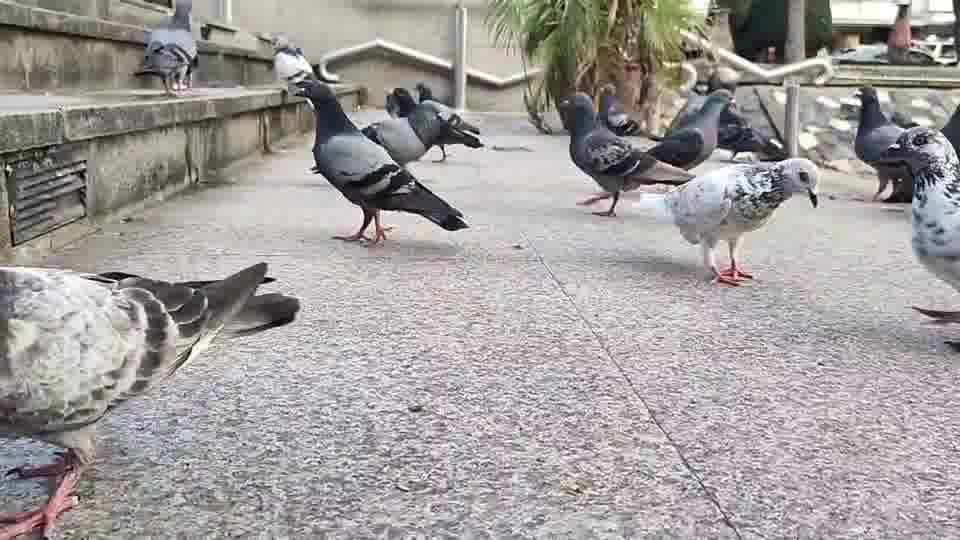Pigeon: (0, 260, 300, 538), (290, 77, 471, 244), (662, 156, 819, 287), (878, 123, 959, 346), (556, 91, 696, 217), (666, 88, 785, 162), (383, 86, 484, 162), (851, 84, 916, 202), (131, 0, 200, 97), (255, 30, 339, 92), (413, 81, 482, 136)
